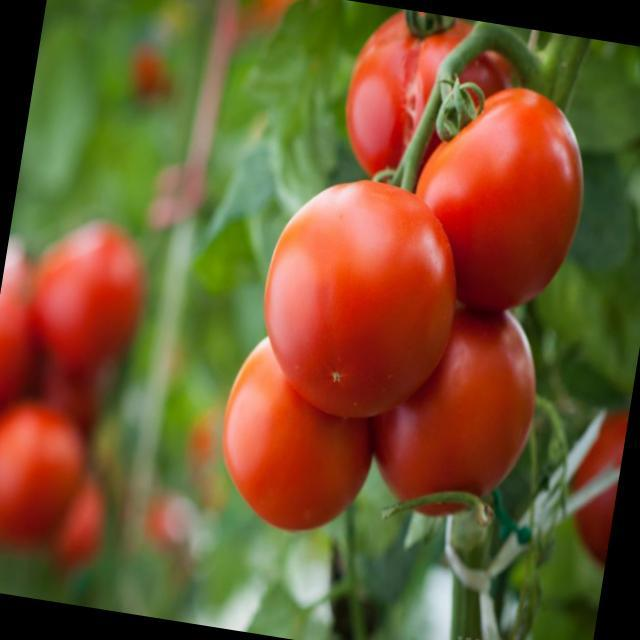TOMATO: (244, 168, 470, 430), (409, 74, 596, 322), (206, 306, 387, 545), (376, 296, 542, 548), (336, 3, 522, 196), (29, 204, 152, 354), (0, 388, 80, 533), (562, 392, 632, 550), (0, 255, 52, 411)
